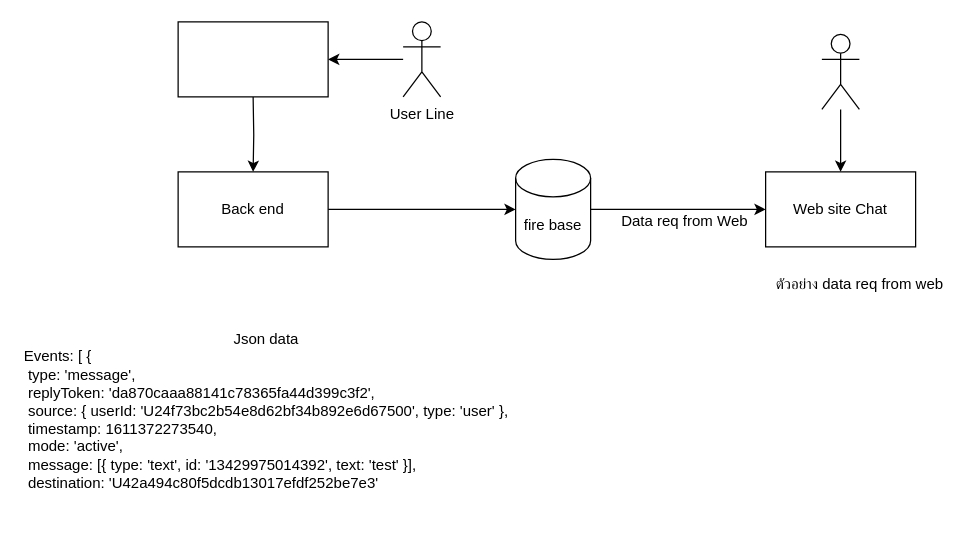
The diagram is 974 pixels wide and 544 high, and some of its shapes have lost their labels. Each missing label, with the box of its shape:
Line: (177, 21, 328, 97)
User line ad: (821, 33, 859, 109)
